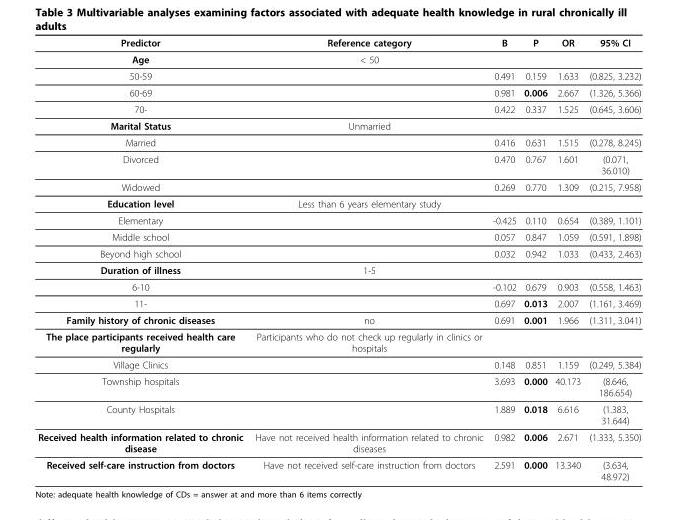table: (37, 36, 640, 481)
table column: (248, 36, 487, 481), (37, 36, 248, 481), (584, 36, 640, 481), (550, 36, 584, 481), (487, 36, 519, 481), (519, 36, 550, 481)
table column header: (37, 36, 640, 50)
table row: (37, 150, 640, 178), (37, 328, 640, 356), (37, 372, 640, 400), (37, 400, 640, 428), (37, 428, 640, 456), (37, 456, 640, 481), (37, 50, 640, 67), (37, 83, 640, 100), (37, 100, 640, 117), (37, 133, 640, 150), (37, 178, 640, 195), (37, 211, 640, 228), (37, 244, 640, 261), (37, 261, 640, 278), (37, 294, 640, 311), (37, 311, 640, 328), (37, 67, 640, 83), (37, 117, 640, 133), (37, 195, 640, 211), (37, 228, 640, 244), (37, 278, 640, 294), (37, 356, 640, 372), (37, 36, 640, 50)
